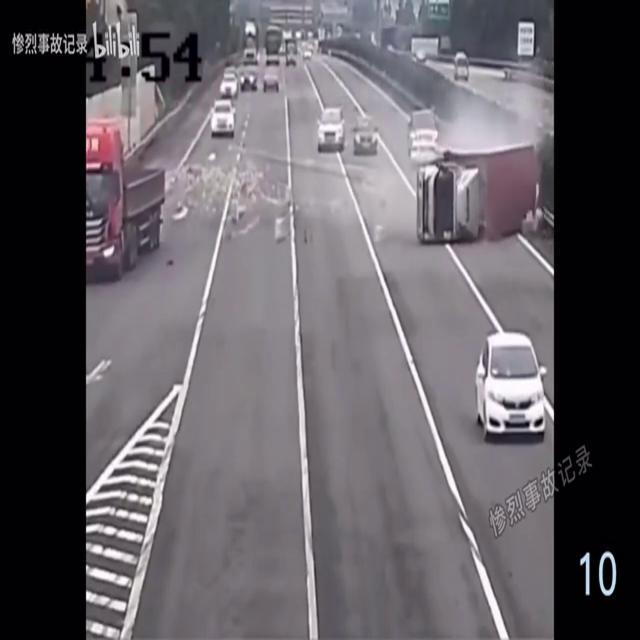normal: (440, 302, 565, 450), (315, 95, 383, 173), (205, 57, 262, 150)
single accident: (402, 93, 567, 272)
